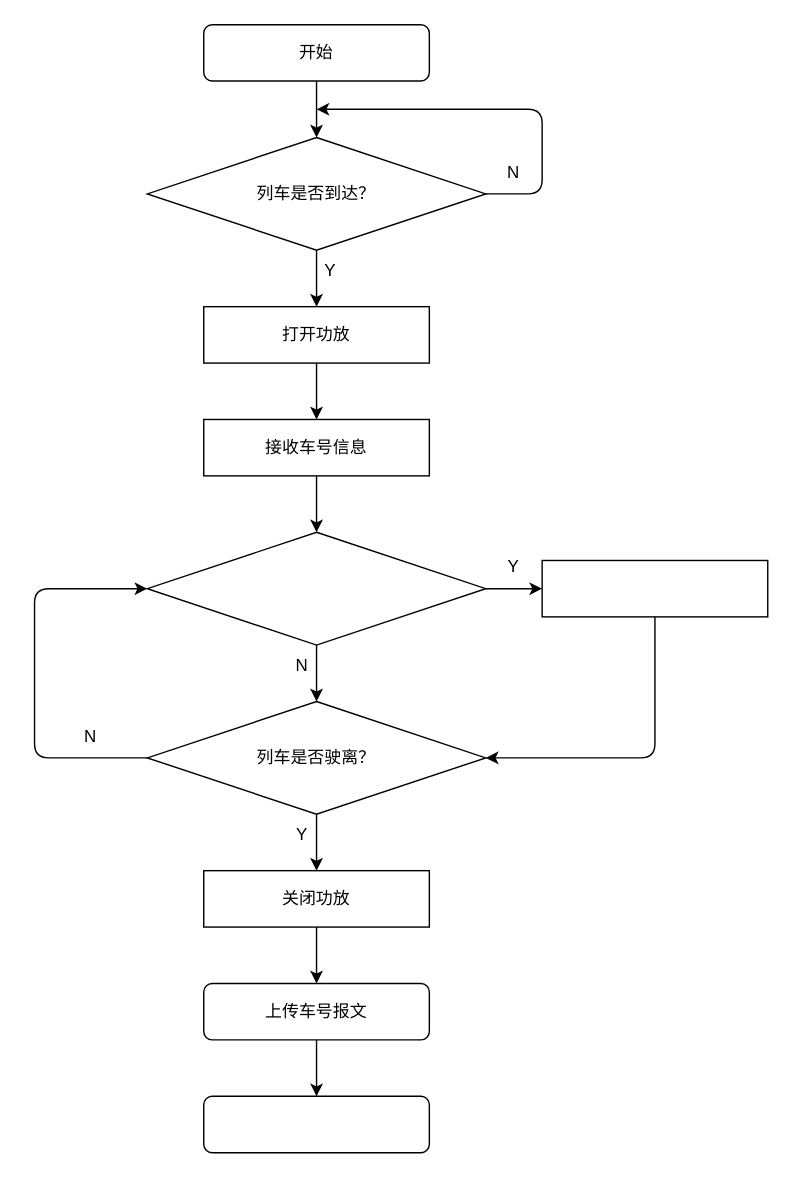
Image size: 792x1177. Some labels were removed from this diagram. Each missing label, with the centre of its shape:
"将车号信息保存到缓冲区" belongs at pixel 654 588.
"收到车号信息？" belongs at pixel 316 588.
"结束" belongs at pixel 315 1124.
